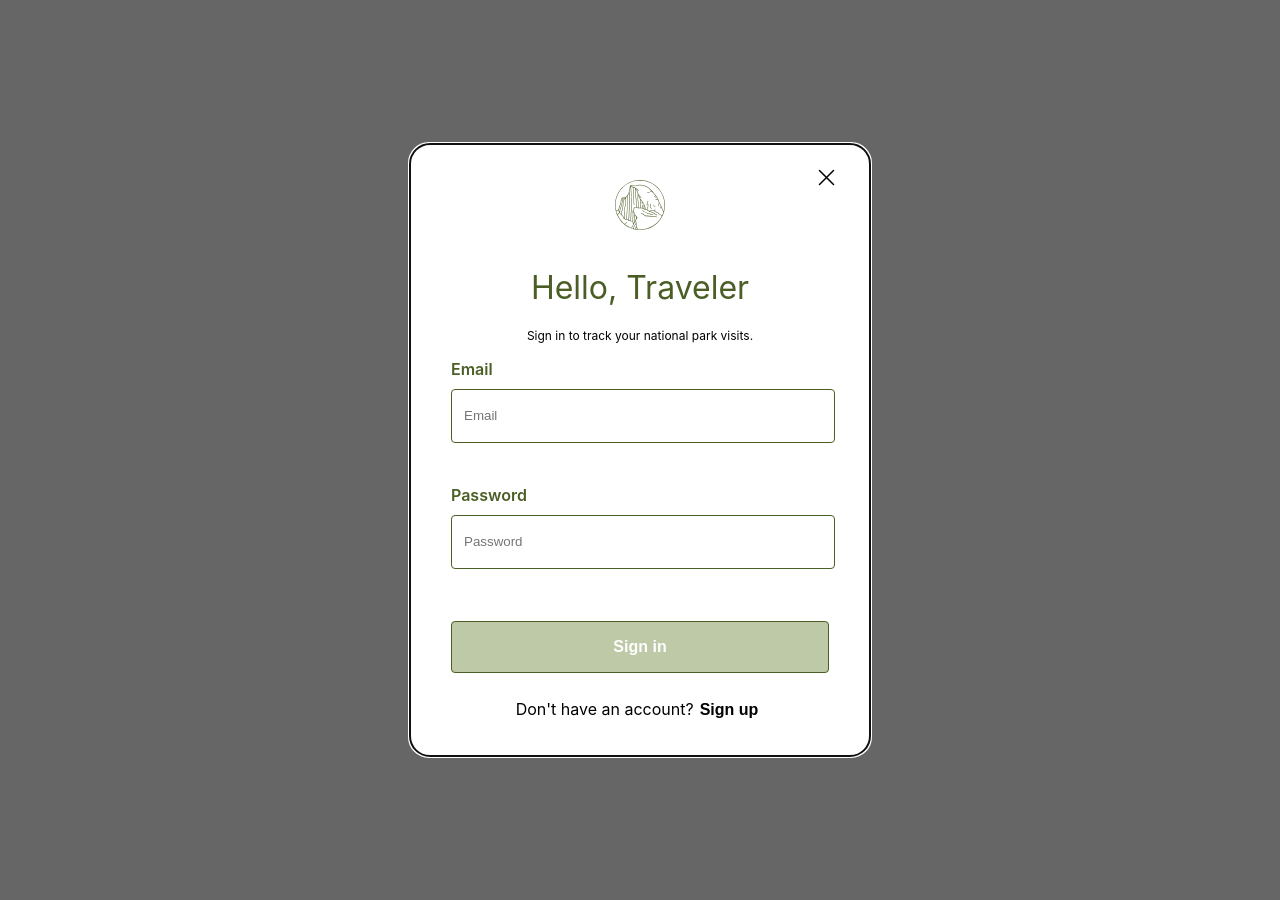
Test case: <LoginModalContainer /> › Toggles registration text
This screenshot has width=1280, height=900.
expect the text "Don't have an account?" is shown: met, box x1=516 y1=699 x2=694 y2=719
Click the button "Sign up".
click(729, 710)  # box x1=694 y1=700 x2=764 y2=720
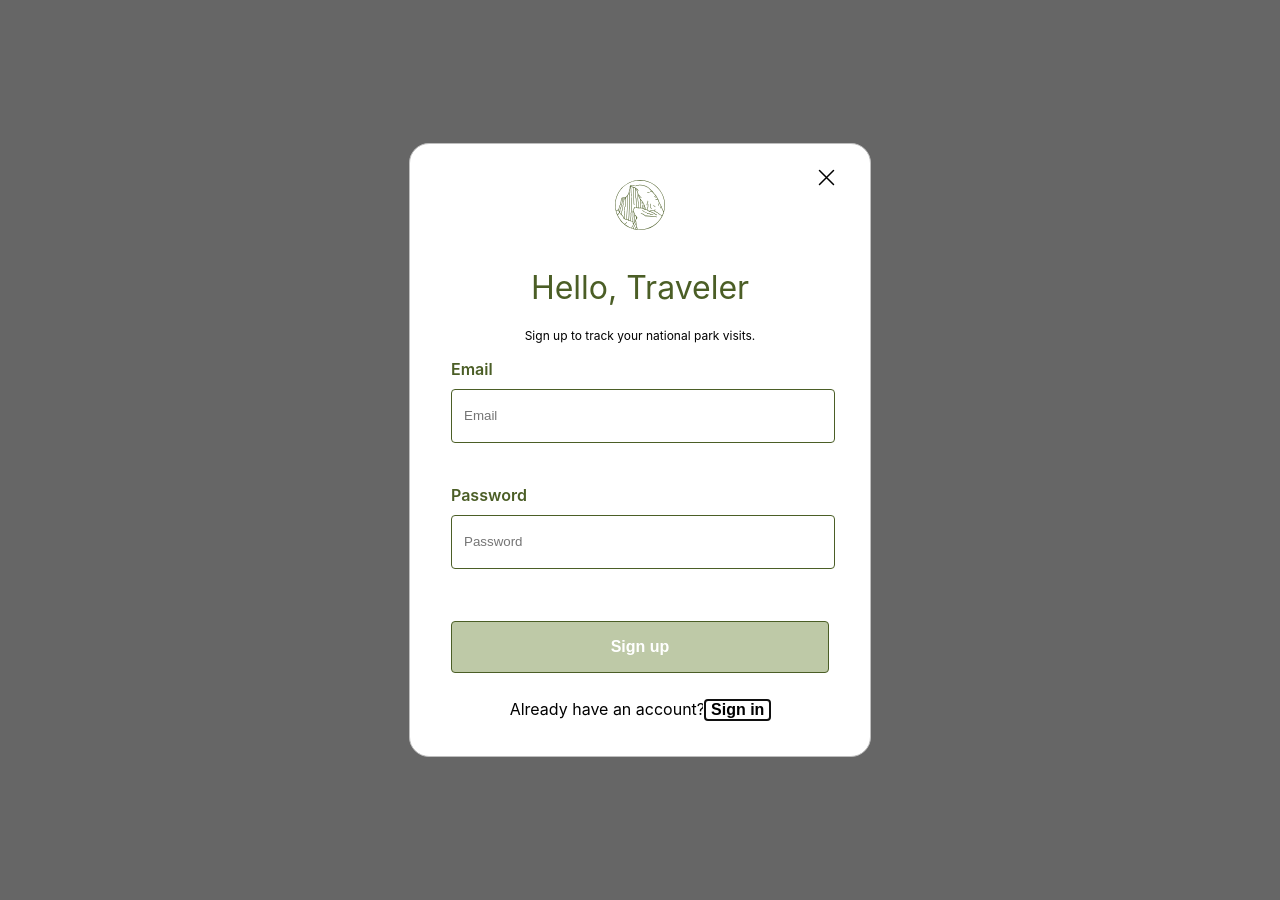
expect the text "Already have an account?" is shown: met, box x1=510 y1=699 x2=705 y2=719
